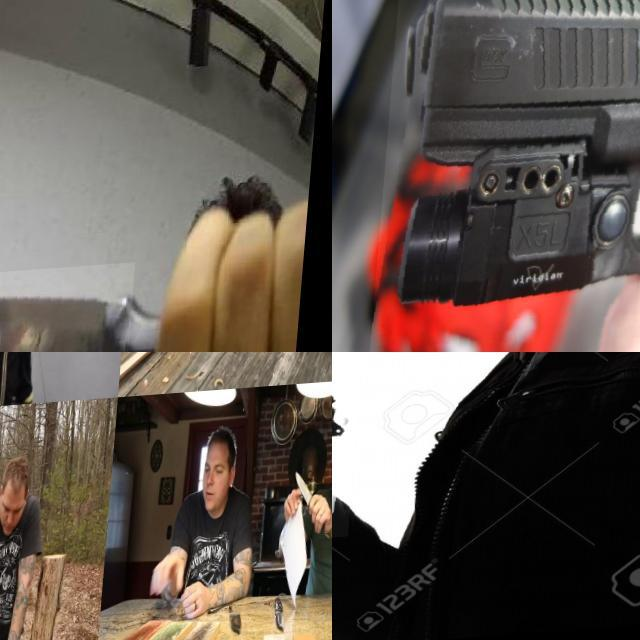-: (0, 269, 141, 352), (294, 470, 332, 533), (290, 352, 332, 384), (0, 596, 14, 640), (0, 352, 20, 371)
gun-knife-thesis - v11 Yolov5 augmented: (372, 0, 640, 352), (332, 352, 450, 554)
